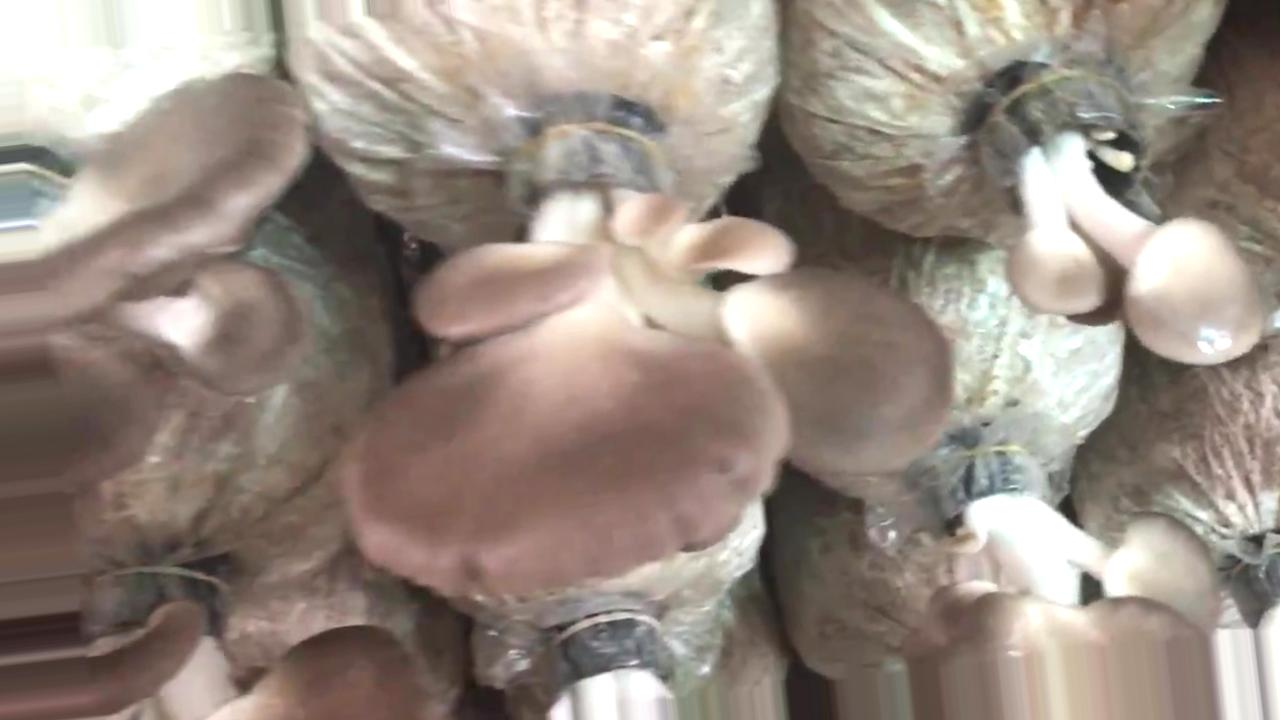nam: (343, 118, 952, 596), (1, 81, 307, 493), (907, 446, 1216, 720), (1000, 68, 1263, 363), (1, 541, 424, 717)
